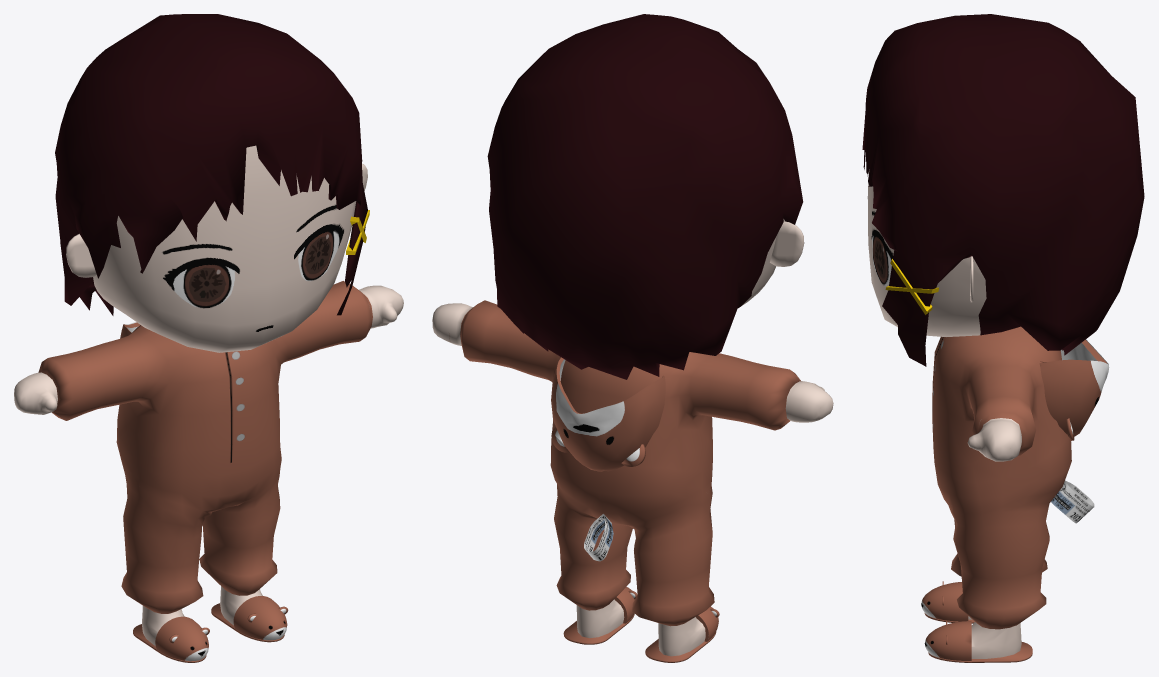
The model's file is lain-chiq-finalfiv.fbx.
The picture shows the model from 3 angles, left to right: view 1: azimuth 30°, elevation 25°; view 2: azimuth 150°, elevation 25°; view 3: azimuth 270°, elevation 25°; orthographic projection.
Parts seen in each view (by area): view 1: LainChikita; view 2: LainChikita; view 3: LainChikita.
Part boxes in pixels (x1=…): LainChikita: x1=14, y1=14, x2=403, y2=662; LainChikita: x1=432, y1=14, x2=833, y2=662; LainChikita: x1=862, y1=14, x2=1144, y2=662.
Bounding box in the file's own units: 321 × 469 × 198.
Materials: 7 (3 with a texture image).
